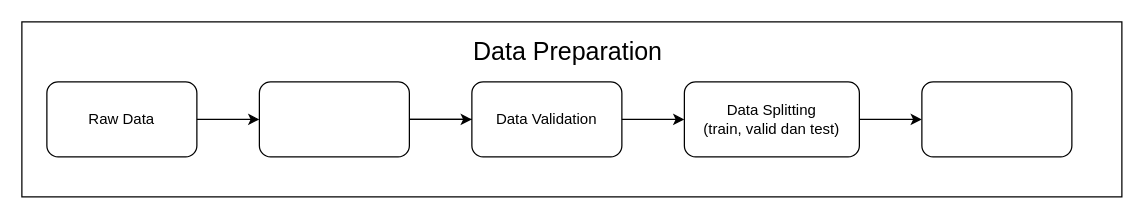
This 1144x219 diagram has some shape labels left out. The shapes that lost their labels are listed below. From the top down, each one's box as (x1, y1, x2, y2) in pixels, then its label:
(258, 81, 409, 157): Data Definition
(921, 81, 1072, 157): Save Data
